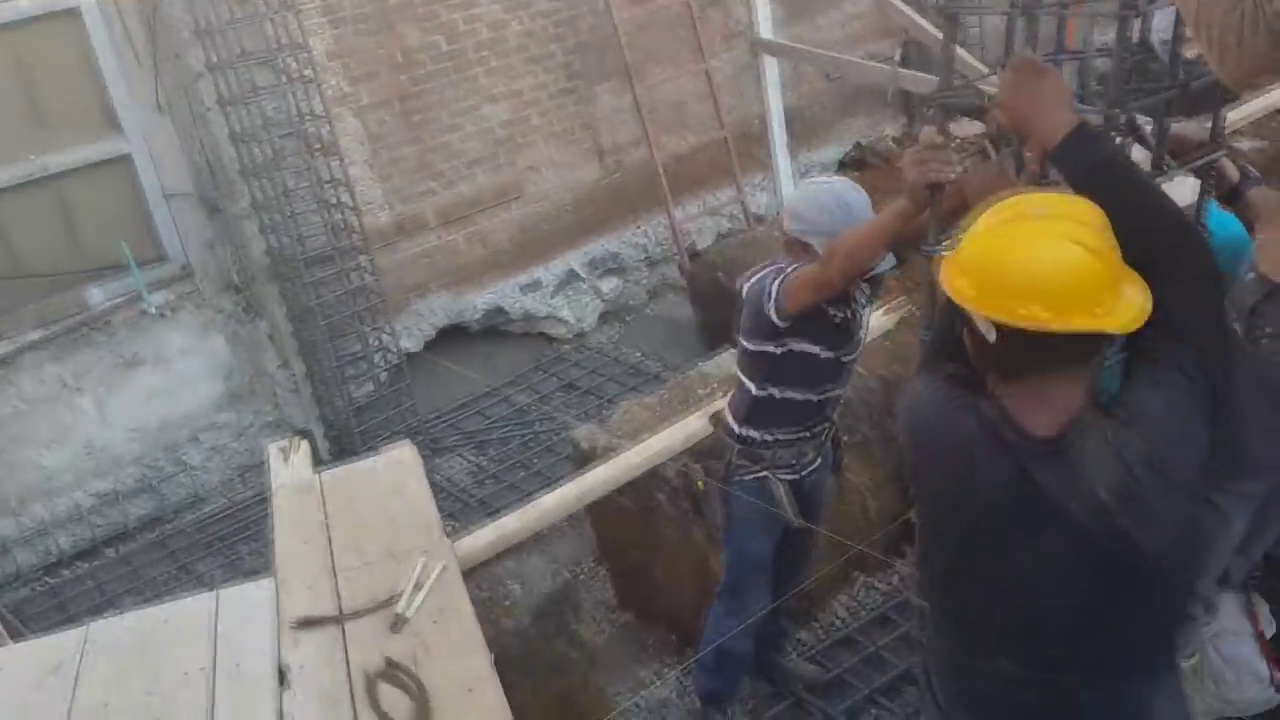helmet: (930, 186, 1150, 338)
helmet-off: (781, 170, 891, 278)
helmet-on: (930, 185, 1176, 449)
person: (859, 51, 1262, 720), (694, 161, 935, 668)
